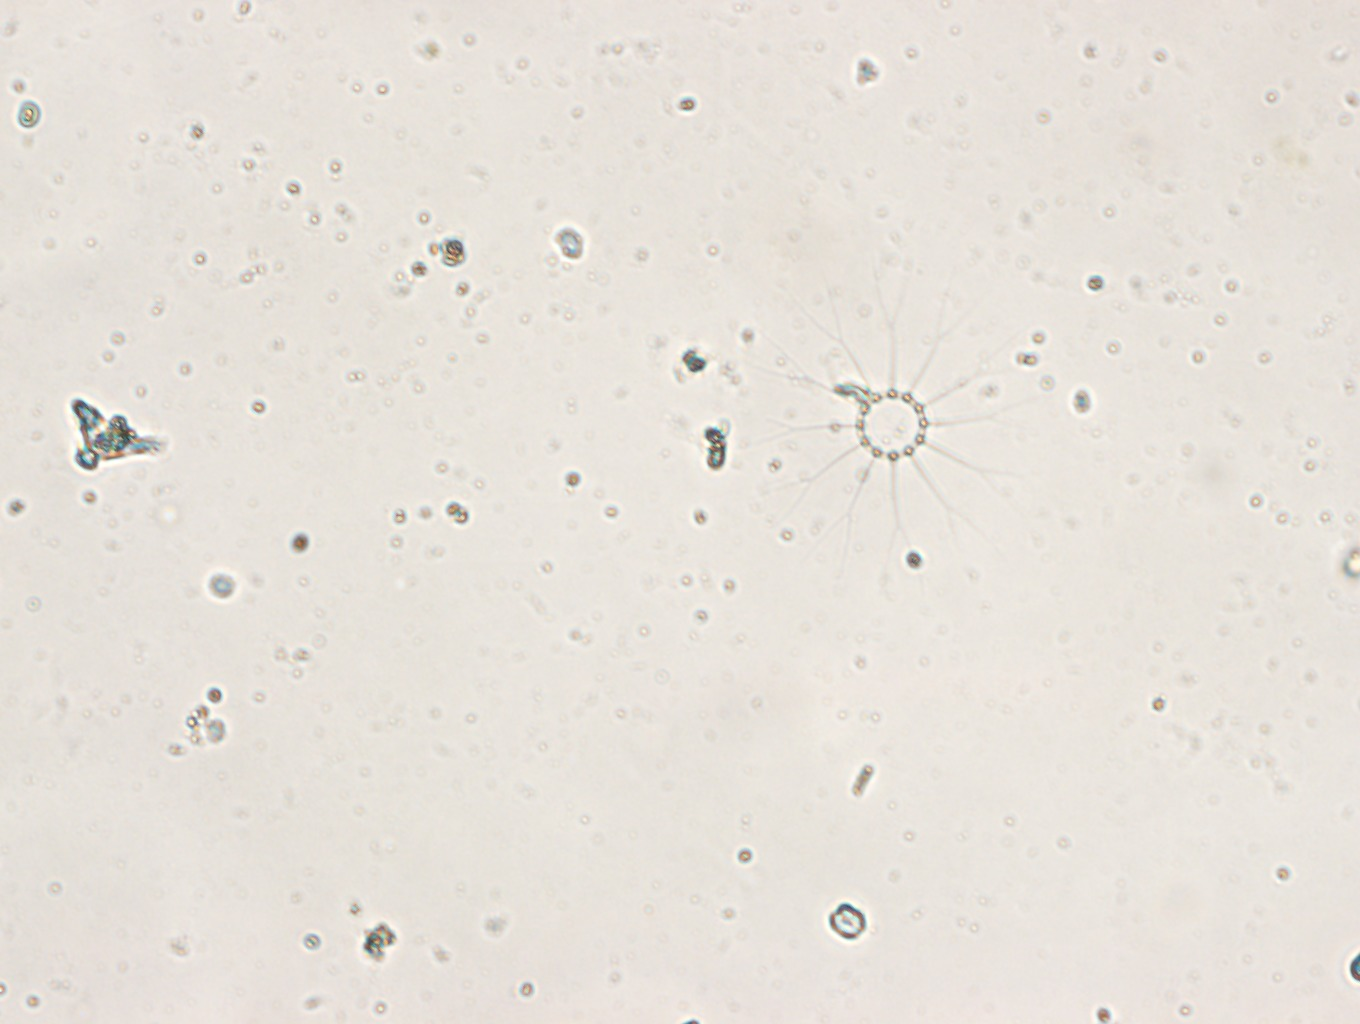helicotheca: (736, 257, 1039, 586)
